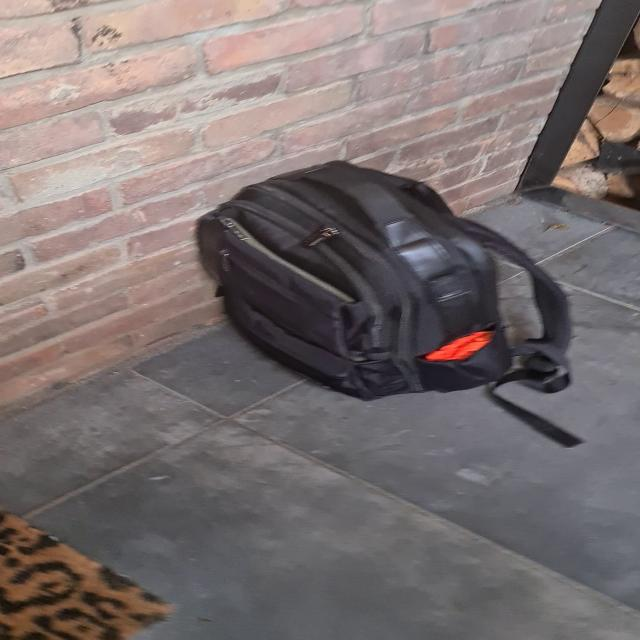backpack: (184, 152, 579, 407)
